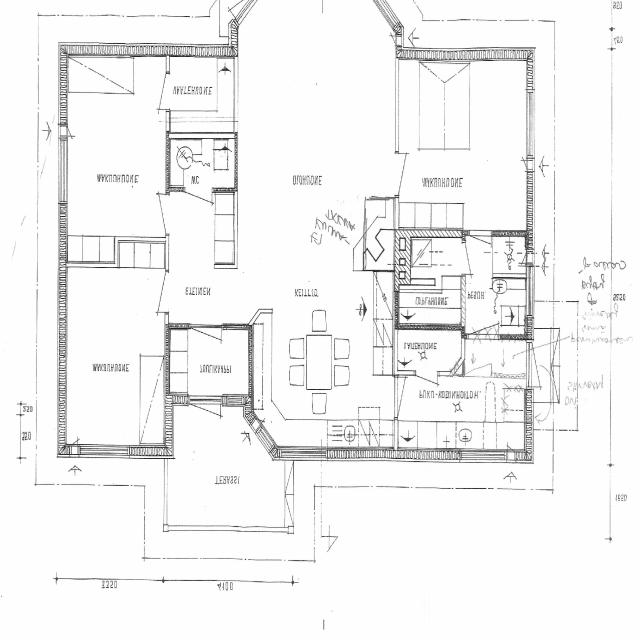door: (190, 394, 222, 450), (192, 324, 222, 372), (527, 380, 563, 419), (136, 272, 169, 312), (136, 194, 169, 234), (396, 153, 428, 194), (396, 377, 428, 418), (213, 0, 262, 25), (185, 188, 212, 230), (139, 73, 169, 109), (467, 337, 491, 377), (416, 372, 438, 408), (462, 243, 487, 274)
